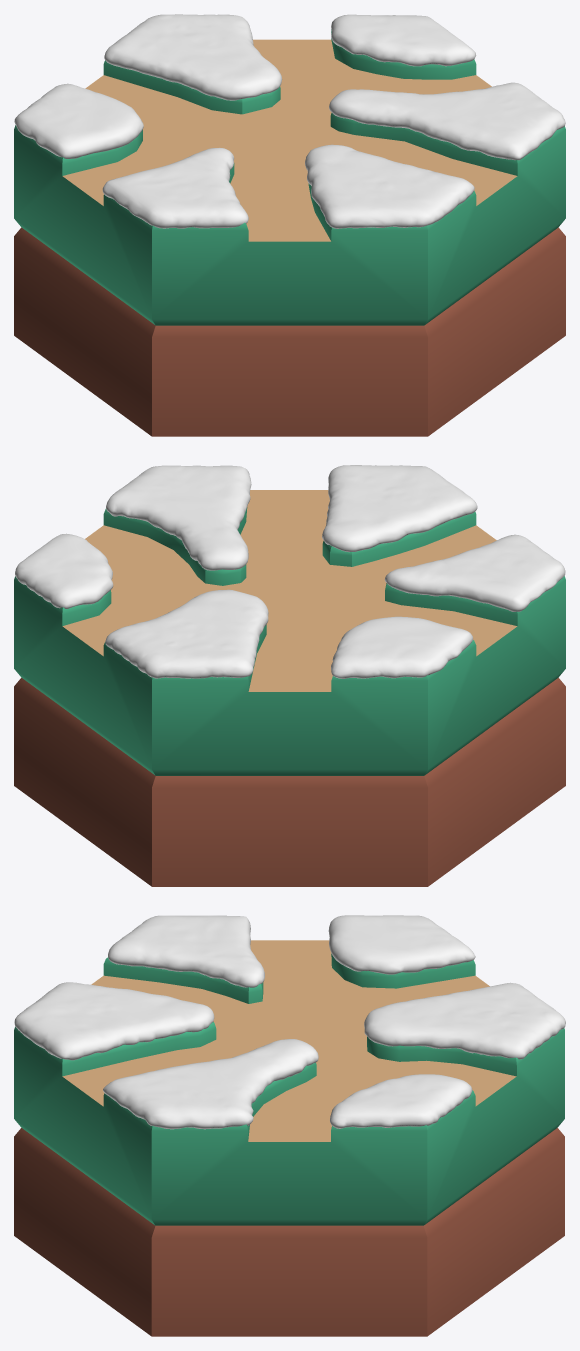
Rendered from snow_hex_forest_roadM_detail.fbx.
3 views of the same model, one above another, from view 1: azimuth 30°, elevation 25°; view 2: azimuth 150°, elevation 25°; view 3: azimuth 270°, elevation 25° (orthographic).
Parts seen in each view (by area): view 1: hex_forest_roadM_detail.001, hex_forest_roadM_detail.002, SnowBall.001, hex_forest_roadM_detail; view 2: hex_forest_roadM_detail.001, hex_forest_roadM_detail.002, SnowBall.001, hex_forest_roadM_detail; view 3: hex_forest_roadM_detail.001, hex_forest_roadM_detail.002, SnowBall.001, hex_forest_roadM_detail.
Part boxes in pixels (x1=…): hex_forest_roadM_detail.001: x1=14, y1=227, x2=565, y2=436; hex_forest_roadM_detail.002: x1=14, y1=29, x2=565, y2=325; SnowBall.001: x1=14, y1=14, x2=565, y2=228; hex_forest_roadM_detail: x1=62, y1=39, x2=517, y2=241; hex_forest_roadM_detail.001: x1=14, y1=678, x2=565, y2=886; hex_forest_roadM_detail.002: x1=14, y1=507, x2=565, y2=775; SnowBall.001: x1=15, y1=465, x2=565, y2=678; hex_forest_roadM_detail: x1=62, y1=490, x2=517, y2=691; hex_forest_roadM_detail.001: x1=14, y1=1128, x2=564, y2=1336; hex_forest_roadM_detail.002: x1=14, y1=953, x2=564, y2=1225; SnowBall.001: x1=14, y1=915, x2=565, y2=1129; hex_forest_roadM_detail: x1=62, y1=940, x2=516, y2=1141.
Bounding box in the file's own units: 204 × 104 × 231.
